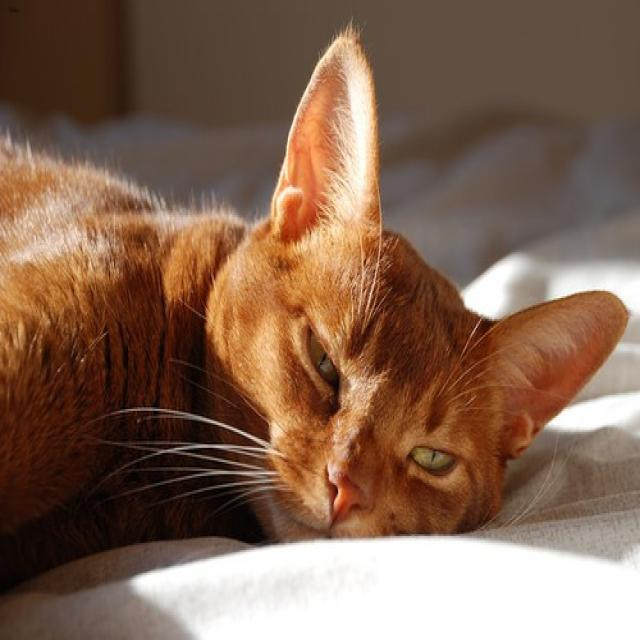Abyssinian: (204, 28, 627, 540)
